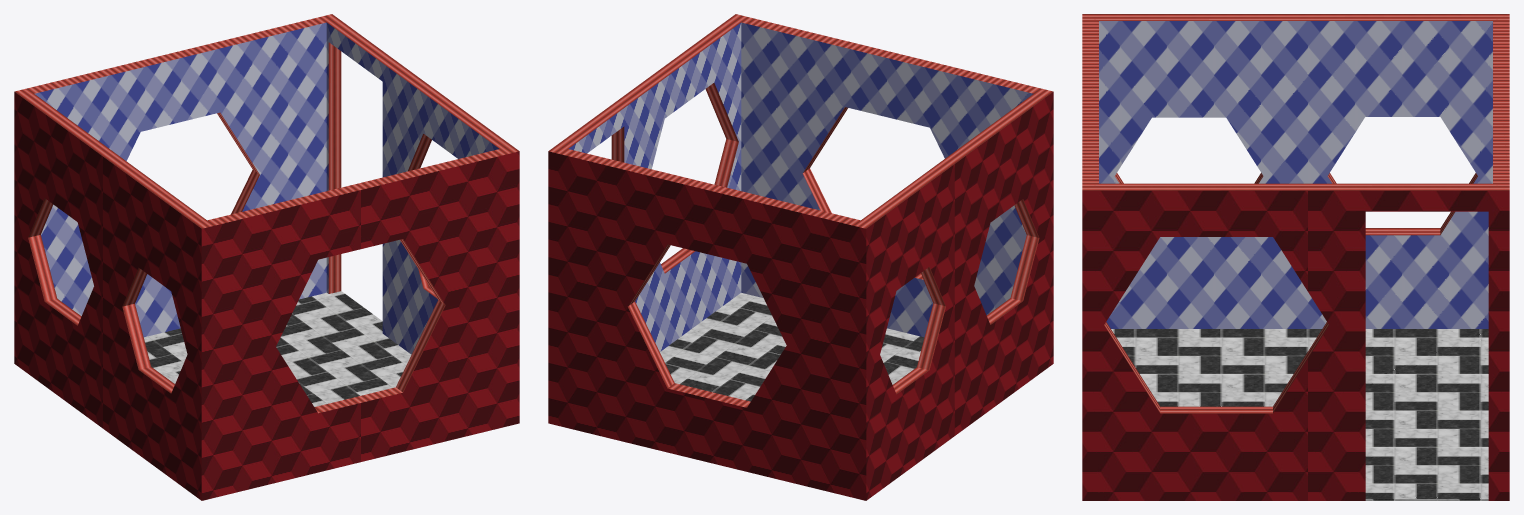
File: canada house.dae
3 renders of one model, left to right at view 1: azimuth 30°, elevation 25°; view 2: azimuth 150°, elevation 25°; view 3: azimuth 270°, elevation 25°, orthographic. The views are drawn at different scales.
Visible parts, largest first — view 1: SketchUp_002, SketchUp_003, SketchUp_008, SketchUp_001, SketchUp, SketchUp_010, SketchUp_005, SketchUp_006, SketchUp_007; view 2: SketchUp_002, SketchUp_003, SketchUp_008, SketchUp_001, SketchUp_007, SketchUp_005, SketchUp_006, SketchUp_004, SketchUp_010; view 3: SketchUp_003, SketchUp_002, SketchUp_008, SketchUp_001, SketchUp_004, SketchUp_005.
Part boxes in pixels (box(x1,y1,x2,y2)): SketchUp_002: box(14, 92, 519, 500); SketchUp_003: box(34, 22, 498, 354); SketchUp_008: box(144, 291, 411, 406); SketchUp_001: box(14, 14, 519, 228); SketchUp: box(328, 42, 341, 293); SketchUp_010: box(314, 239, 445, 413); SketchUp_005: box(28, 198, 81, 325); SketchUp_006: box(122, 267, 174, 393); SketchUp_007: box(217, 112, 259, 214); SketchUp_002: box(548, 92, 1053, 500); SketchUp_003: box(569, 22, 1033, 351); SketchUp_008: box(660, 292, 924, 401); SketchUp_001: box(548, 14, 1053, 228); SketchUp_007: box(628, 244, 750, 407); SketchUp_005: box(892, 267, 945, 394); SketchUp_006: box(986, 199, 1039, 324); SketchUp_004: box(661, 83, 738, 273); SketchUp_010: box(802, 107, 923, 279); SketchUp_003: box(1099, 21, 1492, 328); SketchUp_002: box(1082, 190, 1509, 500); SketchUp_008: box(1111, 329, 1488, 500); SketchUp_001: box(1082, 14, 1509, 190); SketchUp_004: box(1104, 322, 1328, 413); SketchUp_005: box(1327, 173, 1477, 235).
Size of the model in its own units: 2.71 by 2.77 by 2.21.
Materials: 5 (4 with a texture image).
